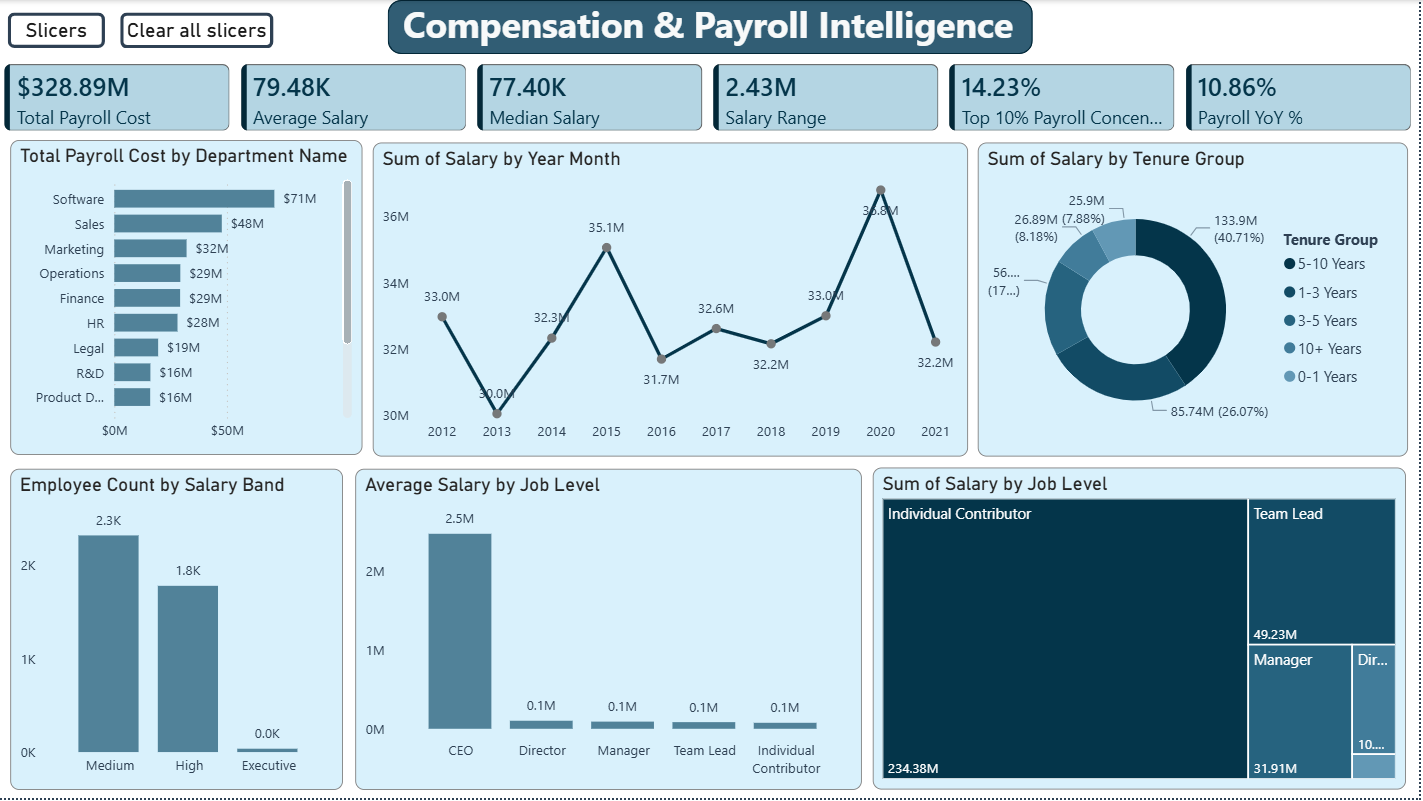

The page's visual inventory and layout, read from the dashboard file:
{"tool":"powerbi","page":{"name":"Compensation Analytics","canvas":[1280,720],"ordinal":5},"visuals":[{"type":"shape","box":[350.6,0,581.6,48.7],"z":0},{"type":"cardVisual","fields":{"Data":["measures (2).Total Payroll Cost","measures (2).Average Salary","measures (2).Median Salary","measures (2).Salary Range","measures (2).Top 10% Payroll Concentration","measures (2).Payroll YoY %"]},"box":[0,52.9,1280,71],"z":1000},{"type":"clusteredBarChart","fields":{"Category":["dim_department.department_name"],"Y":["measures (2).Total Payroll Cost"]},"box":[9.7,126.6,317.2,283.8],"z":2000},{"type":"columnChart","fields":{"Category":["mart_compensation.Salary Band"],"Y":["measures (2).Employee Count"]},"box":[10.6,422.2,299.8,289.7],"z":3000},{"type":"columnChart","fields":{"Y":["measures (2).Average Salary"],"Category":["dim_job_level.job_level_name"]},"box":[320.7,422.2,456.5,289.7],"z":4000},{"type":"treemap","fields":{"Values":["Sum(mart_headcount.salary)"],"Group":["dim_job_level.Job Level"]},"box":[787.4,421.9,480.7,290.1],"z":5000},{"type":"lineChart","fields":{"Y":["Sum(mart_headcount.salary)"],"Category":["dim_date.Year Month (groups)"]},"box":[336.6,128.3,536.5,282.9],"z":6000},{"type":"donutChart","fields":{"Y":["Sum(mart_headcount.salary)"],"Category":["mart_headcount.Tenure Group"]},"box":[882.2,128.3,387.7,282.9],"z":7000},{"type":"textbox","box":[361.2,0,557.3,48.3],"z":14000},{"type":"actionButton","title":"FILTERS","box":[8.3,11.1,87.7,32],"z":15000},{"type":"actionButton","box":[109.5,11.2,138.1,32.3],"z":16000}]}

Visuals, with their boxes in screenshot pixels (x1, y1, x2, y2), scaled from the page's 1280x720 canvas onto the 1423x801 screenshot:
shape: <region>390, 0, 1036, 54</region>
cardVisual - measures (2).Total Payroll Cost x measures (2).Average Salary: <region>0, 59, 1422, 138</region>
clusteredBarChart - dim_department.department_name x measures (2).Total Payroll Cost: <region>11, 141, 363, 457</region>
columnChart - mart_compensation.Salary Band x measures (2).Employee Count: <region>12, 470, 345, 792</region>
columnChart - measures (2).Average Salary x dim_job_level.job_level_name: <region>357, 470, 864, 792</region>
treemap - Sum(mart_headcount.salary) x dim_job_level.Job Level: <region>875, 469, 1410, 792</region>
lineChart - Sum(mart_headcount.salary) x dim_date.Year Month (groups): <region>374, 143, 971, 457</region>
donutChart - Sum(mart_headcount.salary) x mart_headcount.Tenure Group: <region>981, 143, 1412, 457</region>
textbox: <region>402, 0, 1021, 54</region>
"FILTERS" actionButton: <region>9, 12, 107, 48</region>
actionButton: <region>122, 12, 275, 48</region>
